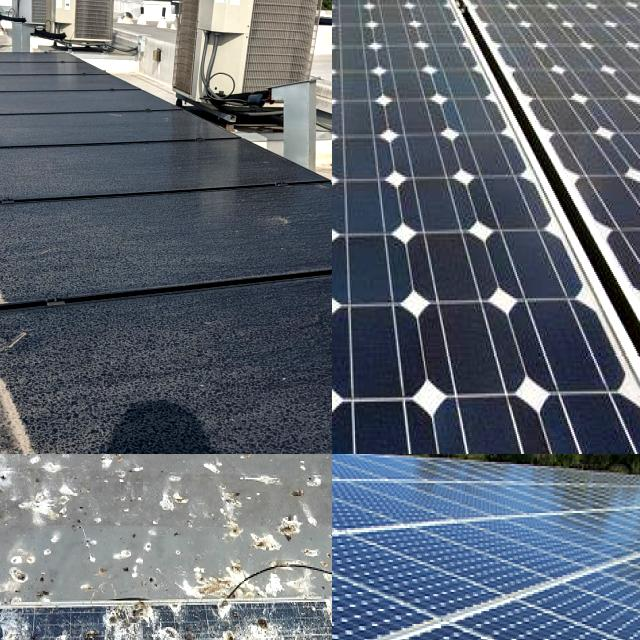bird: (102, 600, 164, 636), (0, 610, 41, 640), (240, 610, 284, 634), (205, 616, 242, 640), (47, 615, 71, 640)
crack: (332, 289, 448, 422), (332, 219, 434, 338), (402, 236, 524, 330), (332, 167, 436, 272), (332, 376, 469, 454), (384, 169, 508, 246), (332, 287, 394, 412), (332, 305, 388, 408), (332, 222, 390, 320), (332, 387, 415, 454), (332, 229, 383, 319), (332, 173, 384, 251), (332, 169, 382, 245), (332, 397, 396, 454), (332, 122, 376, 189), (337, 547, 395, 581), (515, 611, 579, 640), (332, 556, 358, 622), (332, 556, 371, 599), (549, 617, 604, 640), (332, 605, 360, 640)
dust: (0, 318, 90, 454), (0, 203, 53, 301), (234, 194, 312, 252), (0, 45, 20, 131), (0, 155, 35, 195)
